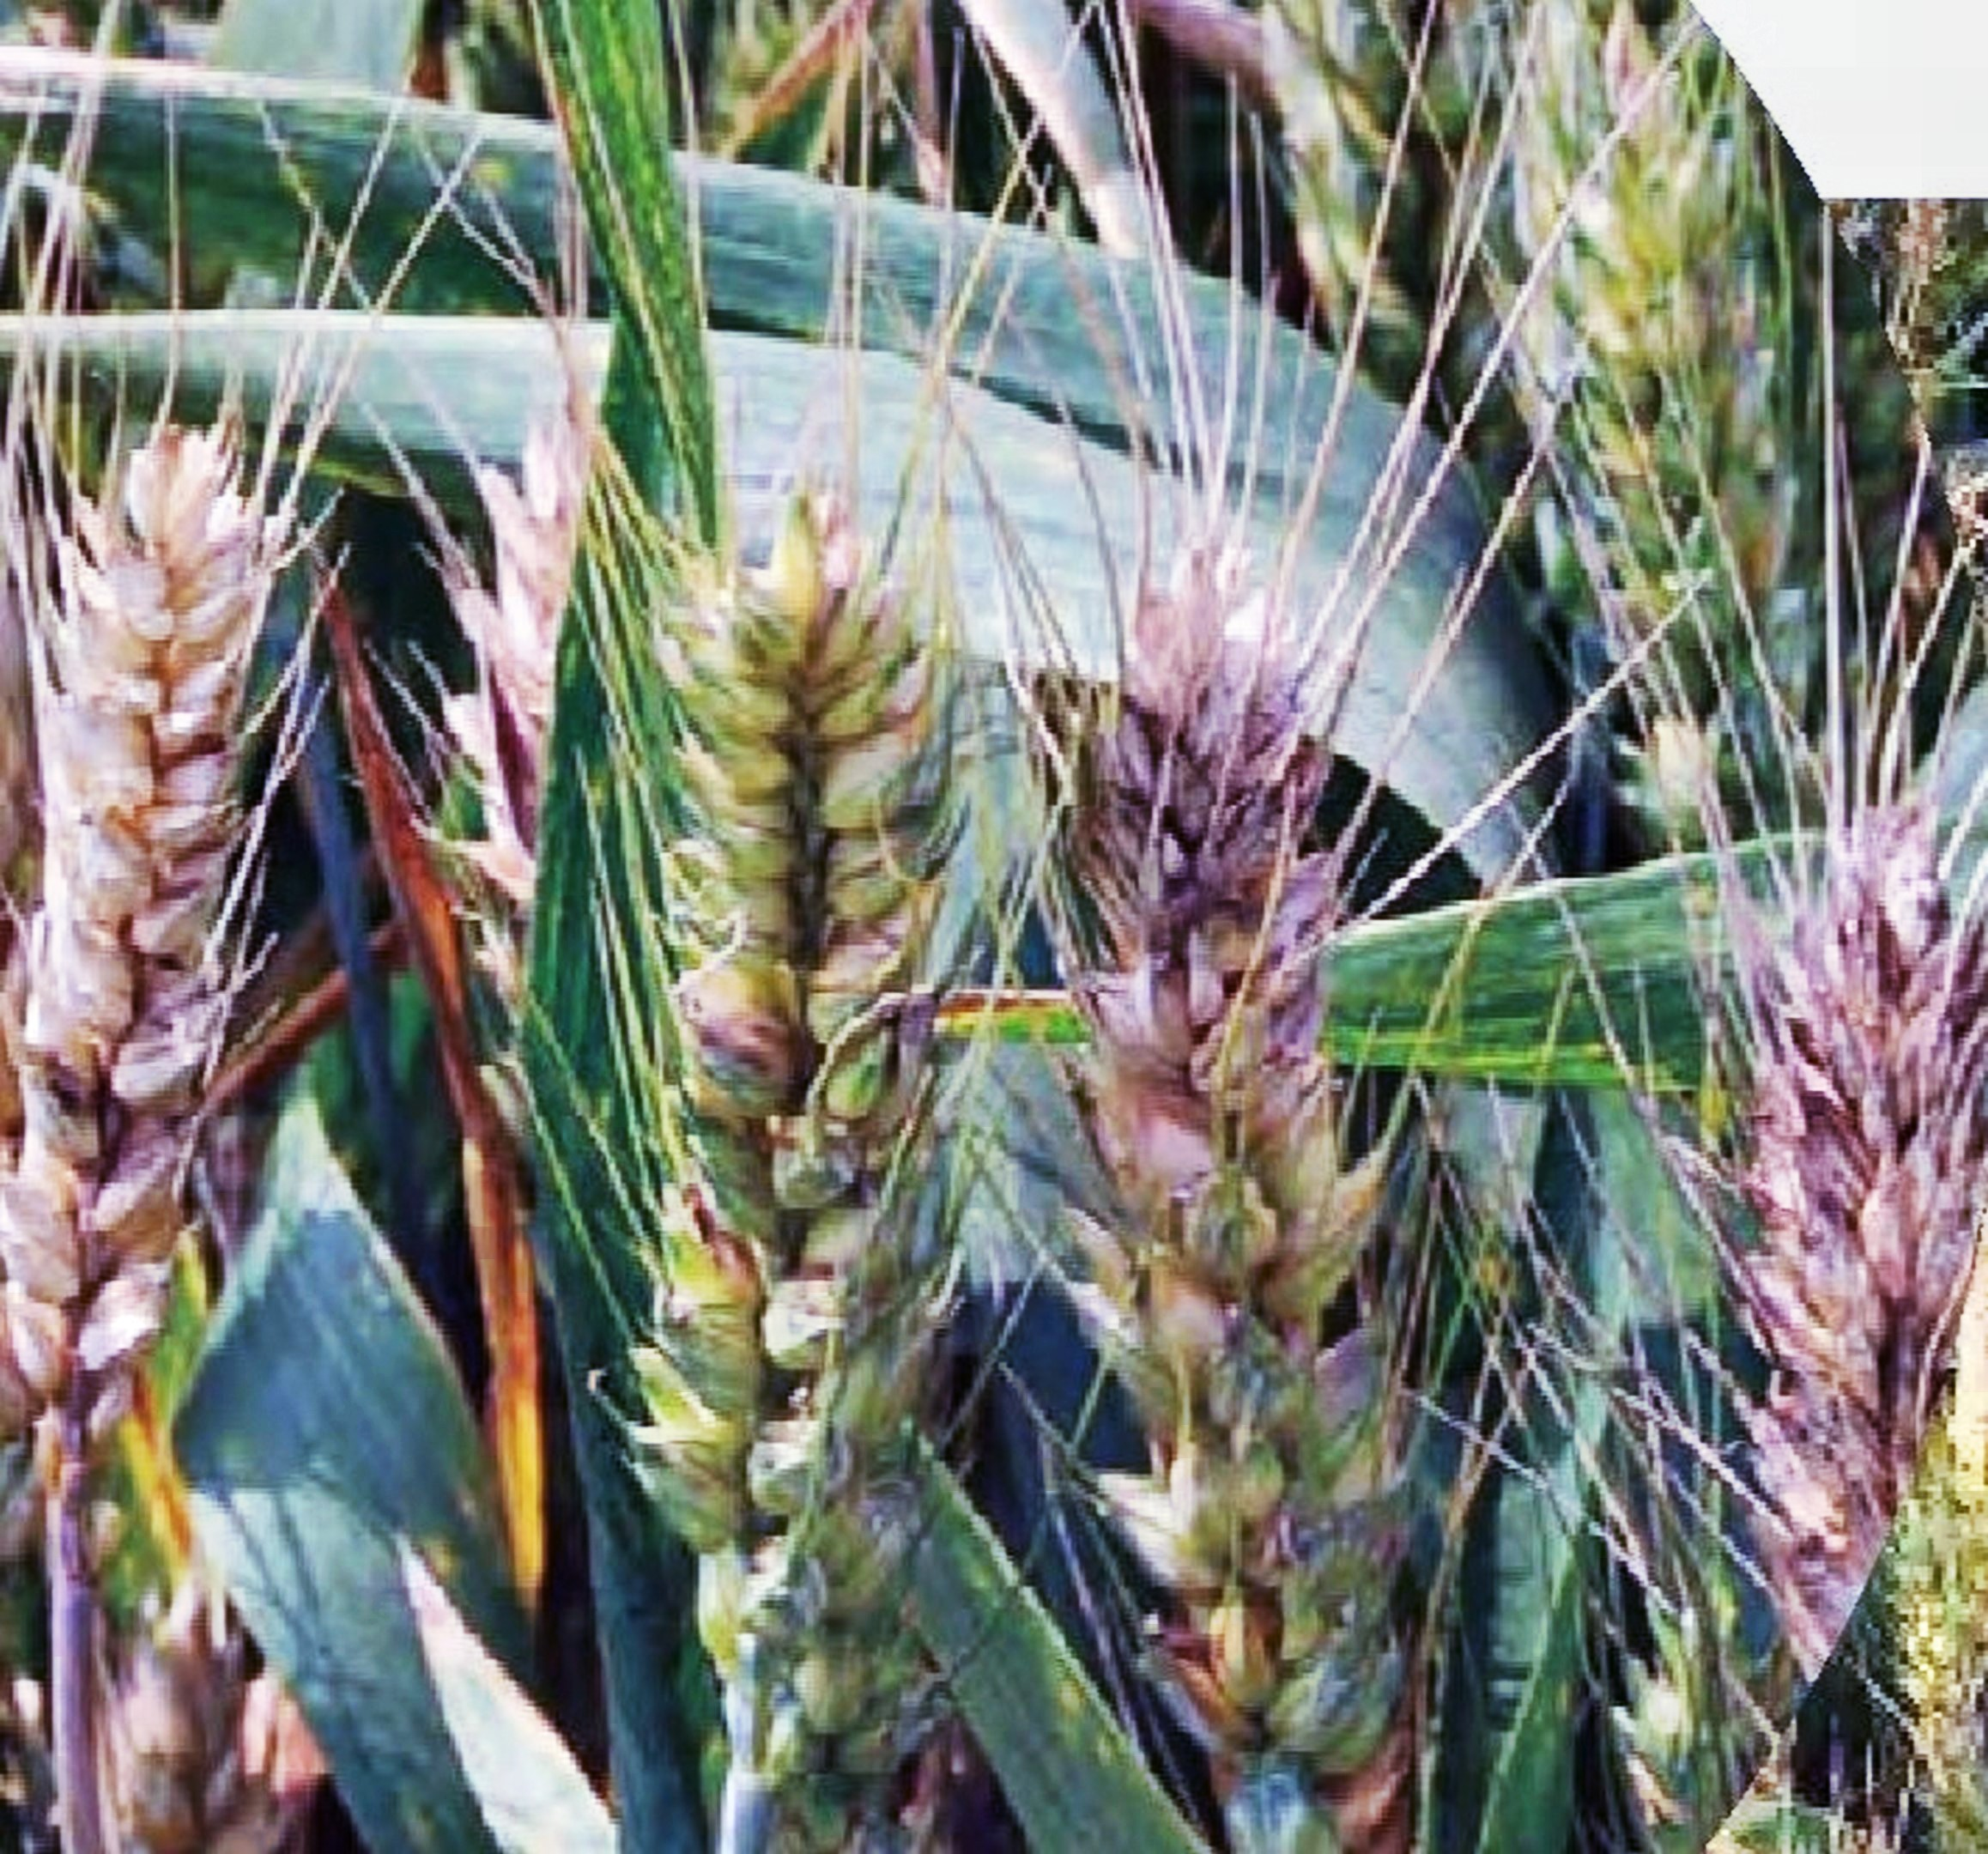Wheat scab: (598, 507, 957, 1699), (1059, 587, 1417, 1748), (19, 432, 310, 1516)
